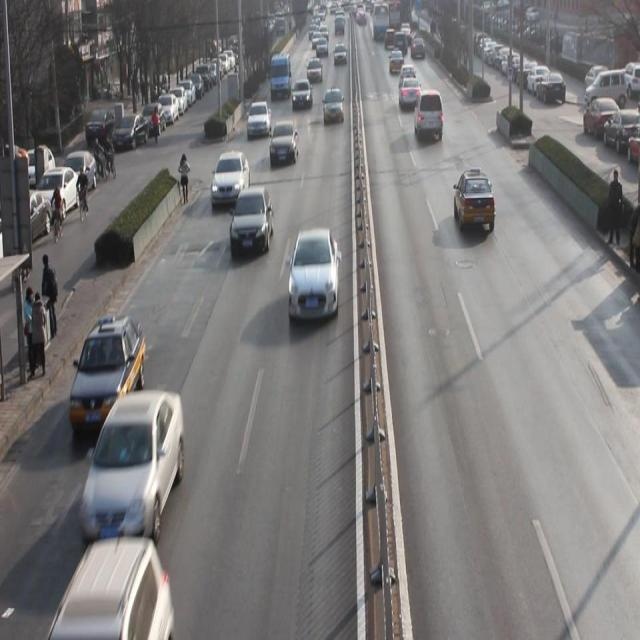car: (82, 398, 184, 542), (47, 546, 175, 640), (71, 318, 144, 427), (289, 229, 340, 322), (231, 189, 275, 257), (454, 169, 496, 236), (208, 150, 252, 207), (269, 123, 300, 167), (247, 98, 272, 138), (323, 90, 344, 128), (398, 74, 421, 107), (293, 78, 314, 112), (307, 56, 323, 86)
truck: (414, 88, 445, 145), (270, 51, 293, 101)
